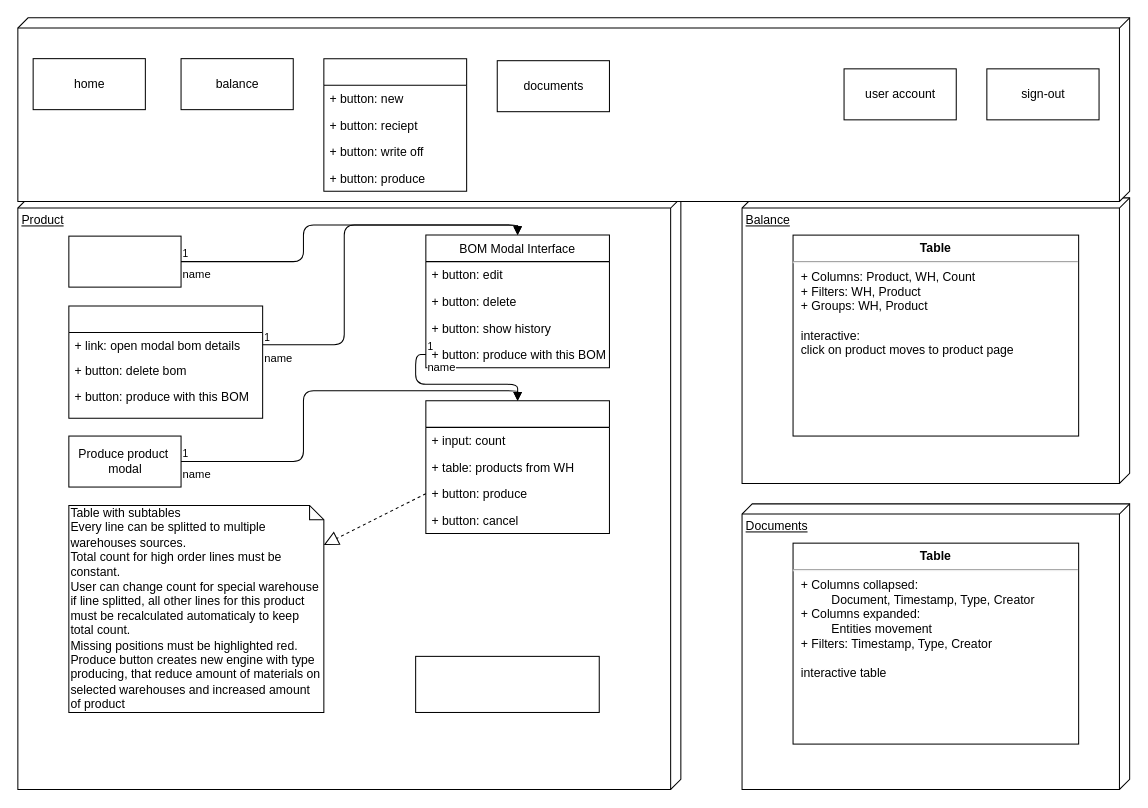
Some shapes in this 1148 by 808 pixel diagram are drawn without their labels. The box of each missing label's shape, as (x1, y1, x2, y2) in pixels:
BOMs list: (68, 305, 263, 418)
Butthon: New BOM: (68, 235, 181, 287)
Entities on warehouses WH|Count stats: (415, 655, 599, 712)
Nav: (17, 17, 1130, 201)
Produce modal Interface: (425, 400, 609, 533)
Products: (323, 58, 467, 191)
